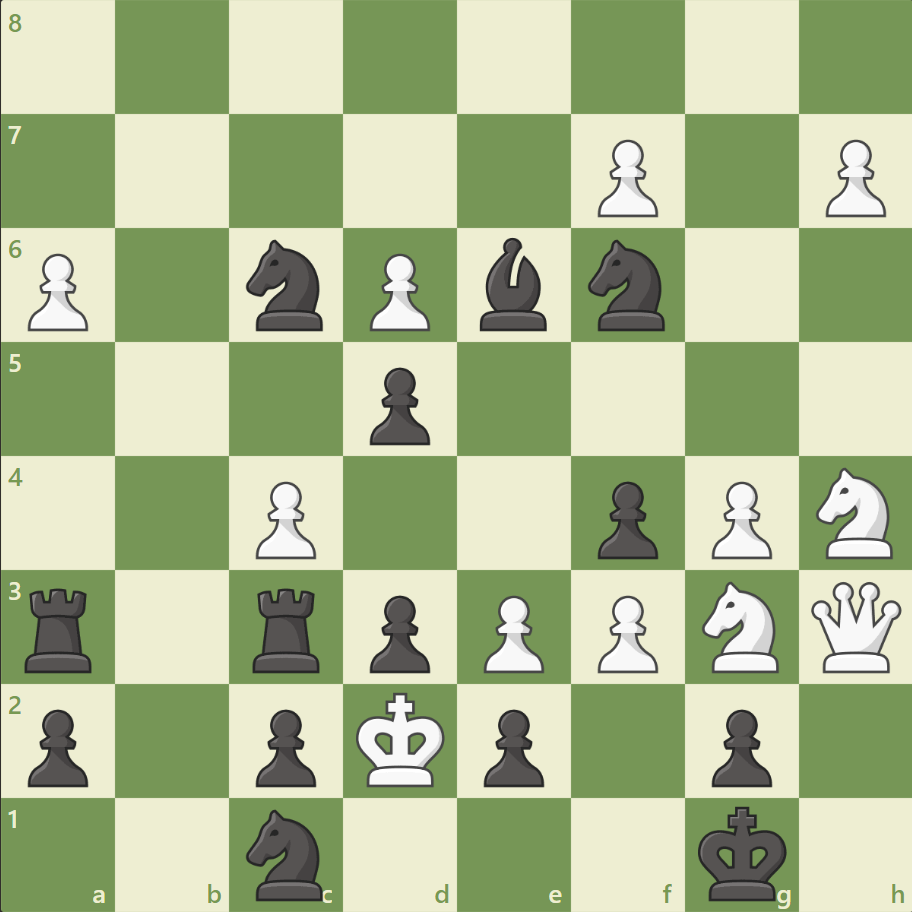K: (351, 685, 451, 793)
N: (806, 461, 903, 564), (692, 575, 789, 677)
P: (20, 246, 95, 337), (247, 473, 322, 564), (701, 473, 776, 564), (474, 586, 549, 677), (588, 132, 662, 223), (815, 132, 889, 223), (361, 246, 435, 337), (588, 586, 662, 677)
Q: (805, 576, 904, 676)
b: (471, 233, 555, 336)
k: (692, 798, 792, 906)
n: (238, 234, 335, 337), (579, 234, 676, 337), (238, 802, 335, 904)
p: (20, 700, 95, 791), (247, 700, 322, 791), (474, 700, 549, 791), (701, 700, 776, 791), (361, 359, 435, 450), (588, 473, 662, 564), (361, 586, 435, 677)
r: (19, 579, 102, 676), (246, 579, 329, 676)
